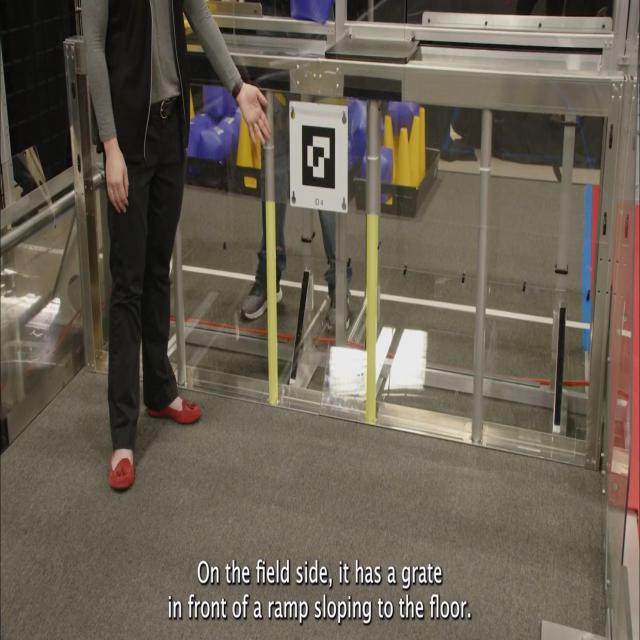frc_cone: (385, 129, 418, 207), (234, 113, 255, 187), (406, 114, 424, 196), (381, 114, 398, 193), (416, 106, 429, 179), (252, 130, 262, 172)
frc_cube: (200, 118, 232, 162), (346, 99, 367, 150), (360, 149, 394, 180), (292, 0, 330, 24), (218, 110, 239, 143), (388, 101, 415, 126), (185, 123, 202, 155), (192, 113, 213, 133)
